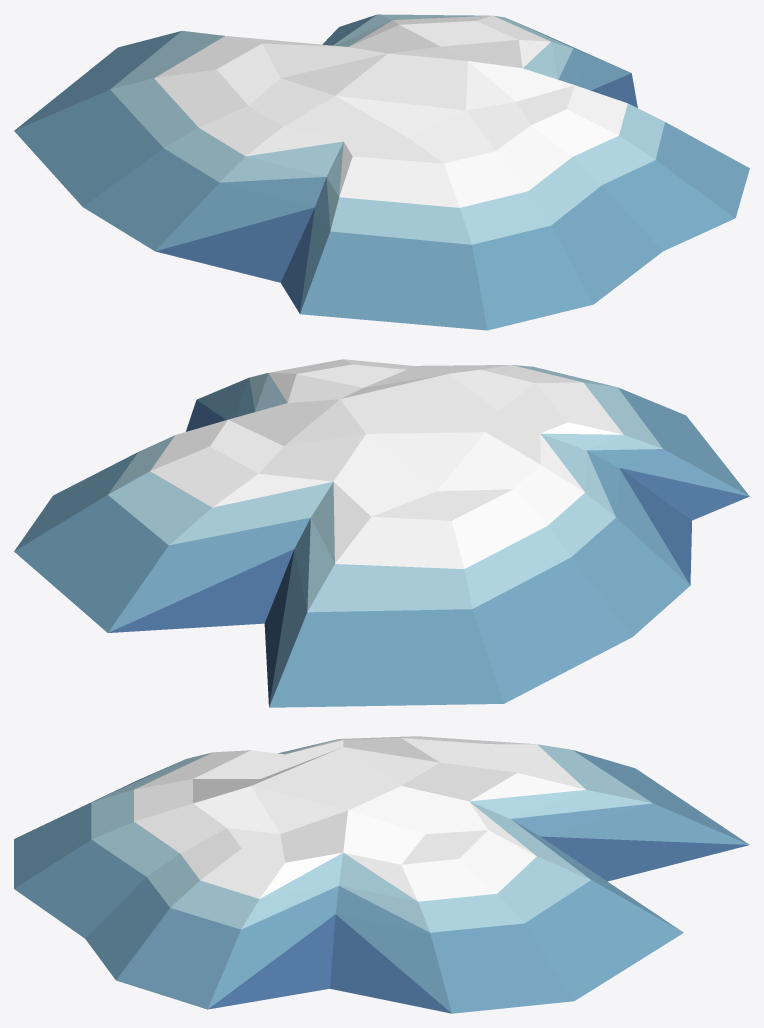
Rendered from terrainBeach2.fbx.
The picture shows the model from 3 angles, top to bottom: view 1: azimuth 30°, elevation 25°; view 2: azimuth 150°, elevation 25°; view 3: azimuth 270°, elevation 25°; orthographic projection. The views are drawn at different scales.
Parts seen in each view (by area): view 1: bottom, top; view 2: bottom, top; view 3: bottom, top.
Part boxes in pixels (x1=…): bottom: x1=14, y1=14, x2=749, y2=330; top: x1=335, y1=53, x2=467, y2=110; bottom: x1=14, y1=359, x2=749, y2=707; top: x1=340, y1=374, x2=484, y2=433; bottom: x1=14, y1=736, x2=749, y2=1013; top: x1=252, y1=747, x2=400, y2=810.
Size of the model in its own units: 788 by 144 by 950.
2 materials, 2 textured.
